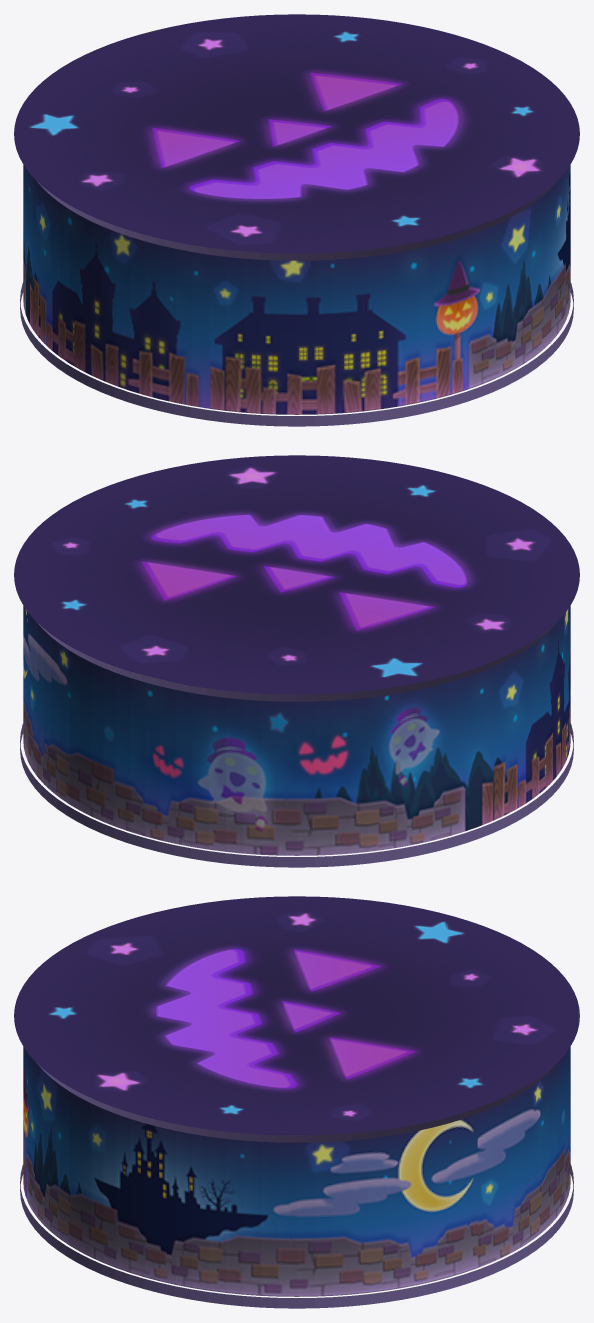
Rendered from pedestal.glb.
3 views of the same model, one above another, from view 1: azimuth 30°, elevation 25°; view 2: azimuth 150°, elevation 25°; view 3: azimuth 270°, elevation 25° (orthographic).
Visible parts, largest first — view 1: StandAtlasTop, StandAtlasSide, GoldFootTrim, GoldTopLip; view 2: StandAtlasTop, StandAtlasSide, GoldFootTrim, GoldTopLip; view 3: StandAtlasTop, StandAtlasSide, GoldFootTrim, GoldTopLip.
Boxes of the visible parts, x1=… form: StandAtlasTop: x1=14, y1=14, x2=579, y2=253; StandAtlasSide: x1=23, y1=165, x2=570, y2=414; GoldFootTrim: x1=20, y1=282, x2=573, y2=426; GoldTopLip: x1=33, y1=177, x2=560, y2=260; StandAtlasTop: x1=14, y1=455, x2=579, y2=694; StandAtlasSide: x1=23, y1=606, x2=570, y2=855; GoldFootTrim: x1=20, y1=723, x2=573, y2=867; GoldTopLip: x1=33, y1=618, x2=560, y2=701; StandAtlasTop: x1=14, y1=896, x2=579, y2=1135; StandAtlasSide: x1=23, y1=1047, x2=570, y2=1296; GoldFootTrim: x1=20, y1=1164, x2=573, y2=1308; GoldTopLip: x1=33, y1=1059, x2=560, y2=1142.
Bounding box in the file's own units: 3.67 × 1.26 × 3.67.
2 materials, 1 textured.
